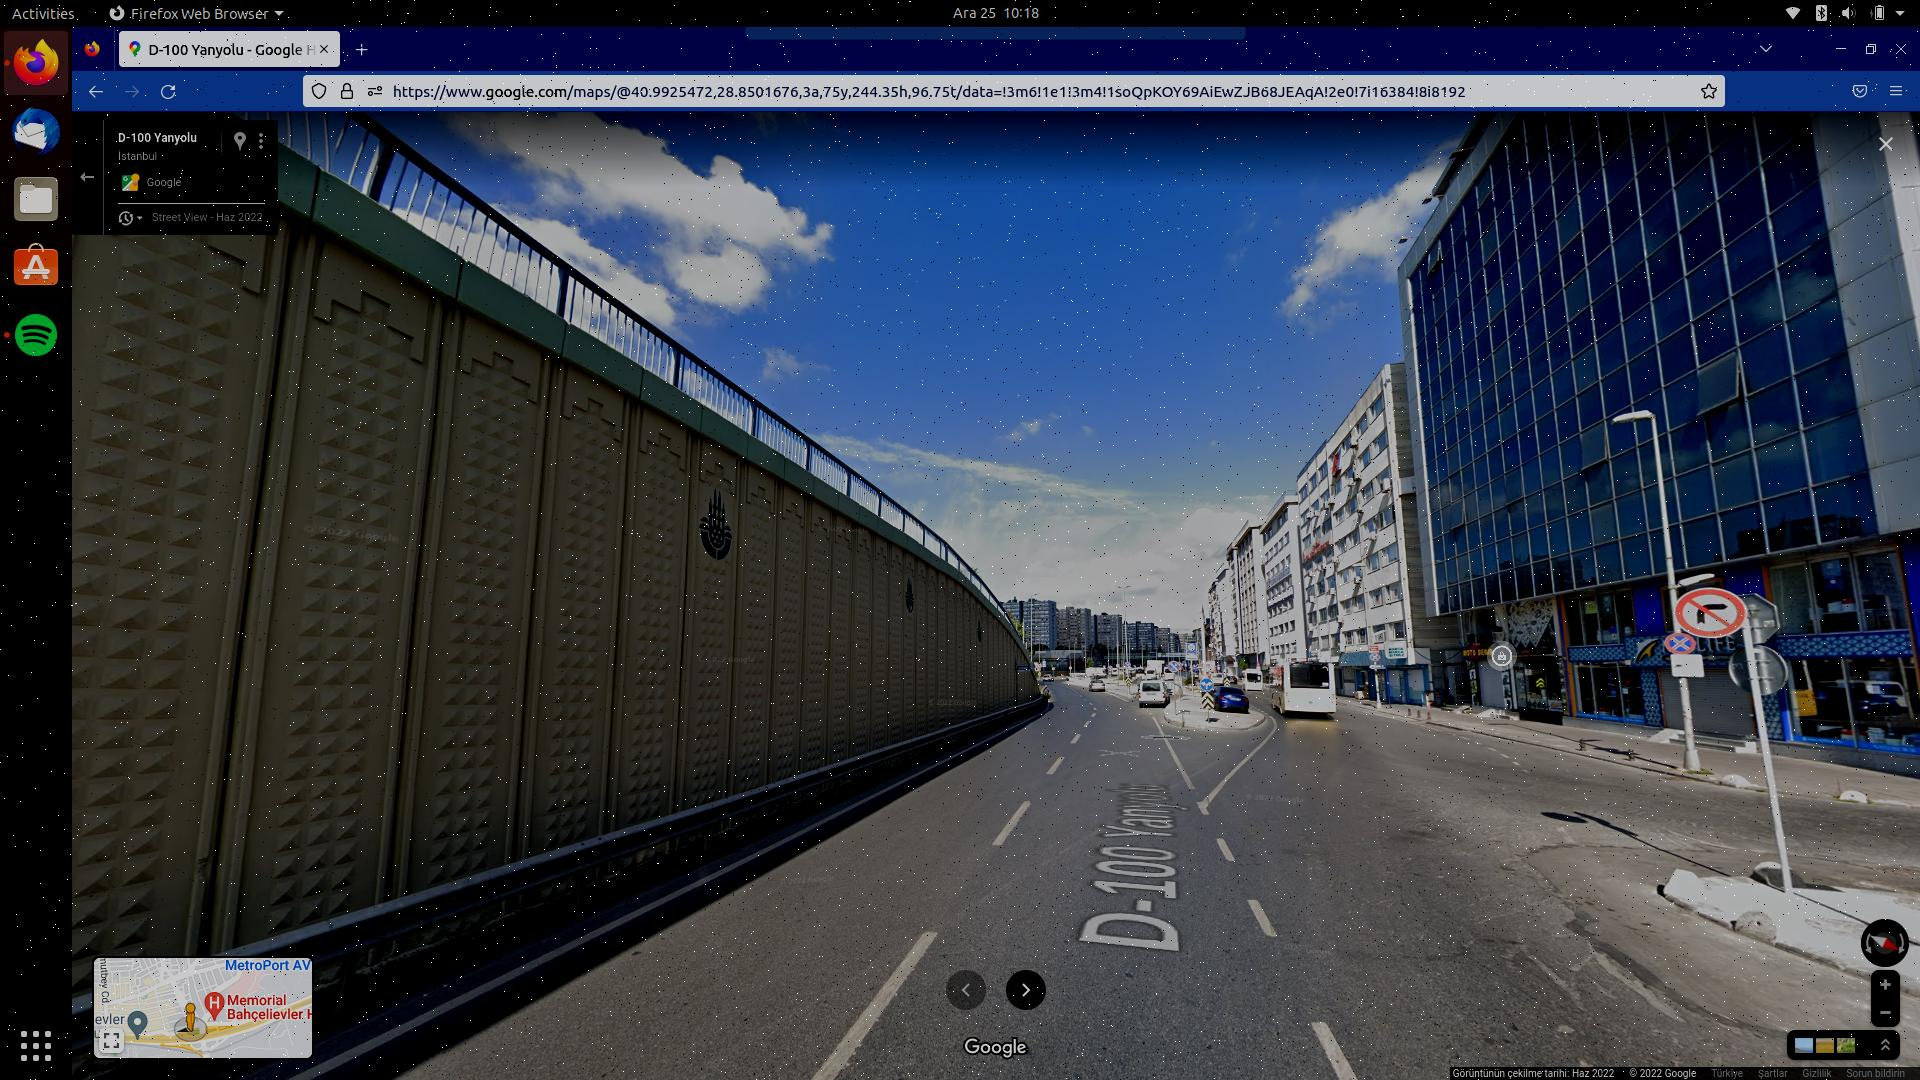rightturnsareforbidden: (1676, 589, 1743, 640)
